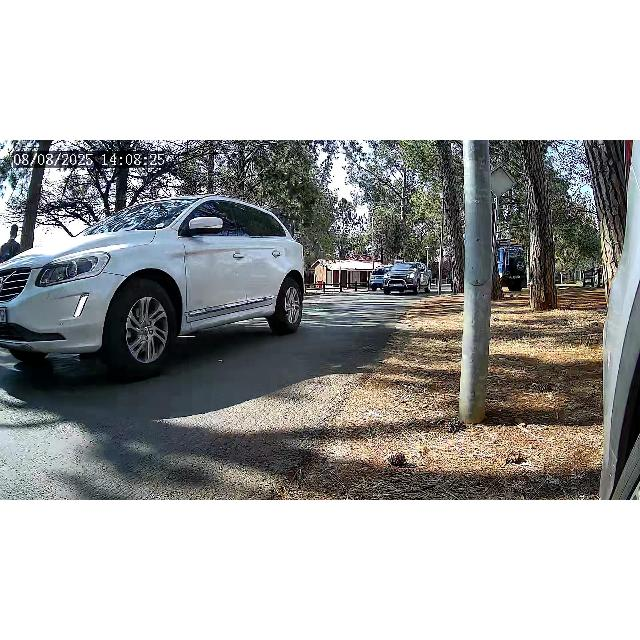car: (0, 194, 306, 382), (382, 262, 422, 296), (367, 265, 393, 291)
